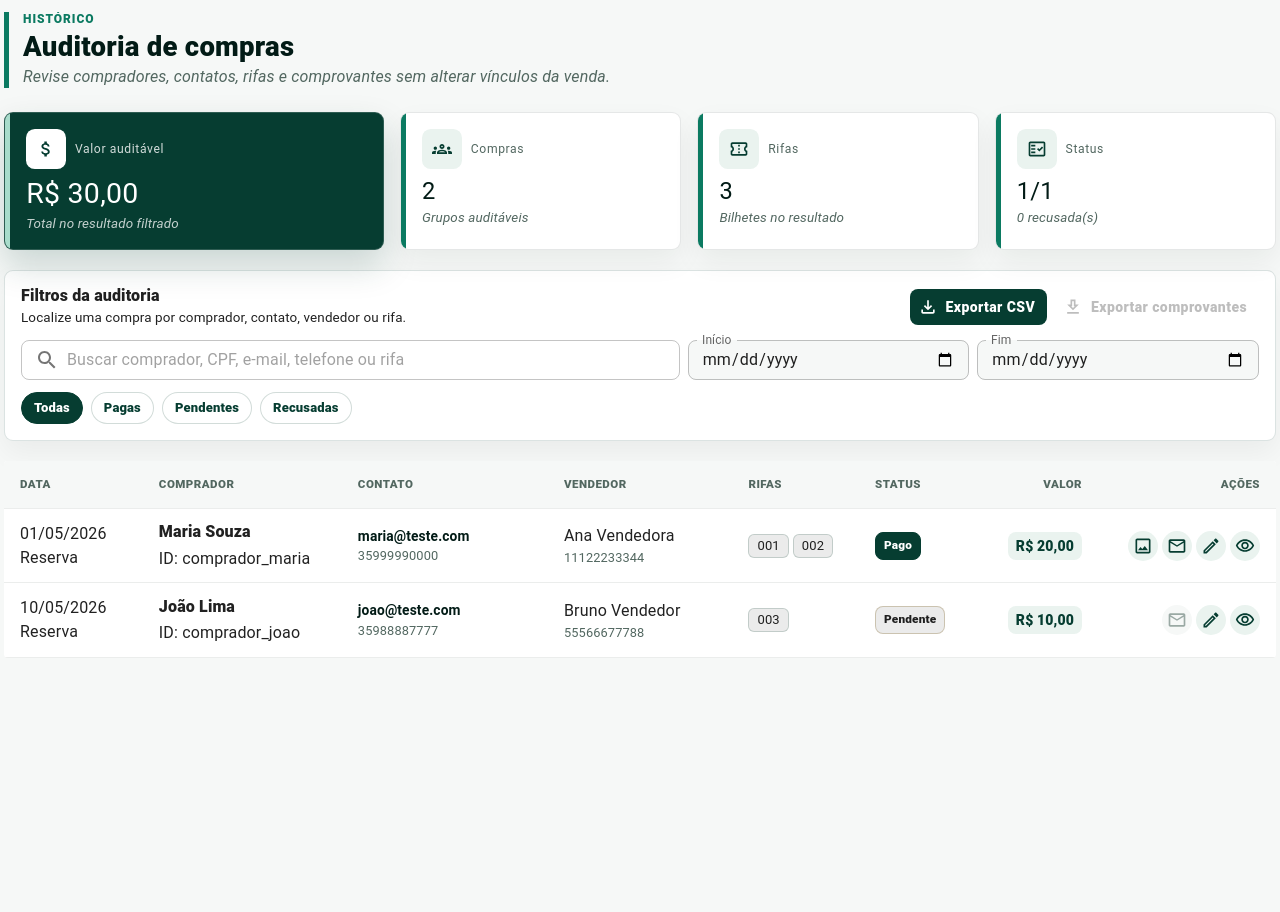
it: Página <AuditoriaComprasPage /> › Deve mostrar estado vazio e manter ações futuras desabilitadas
Step 1. Type "compra inexistente" into the field with placeholder "Buscar comprador, CPF, e-mail, telefone ou rifa" → coordinates (373, 360), box [67,340,680,380]
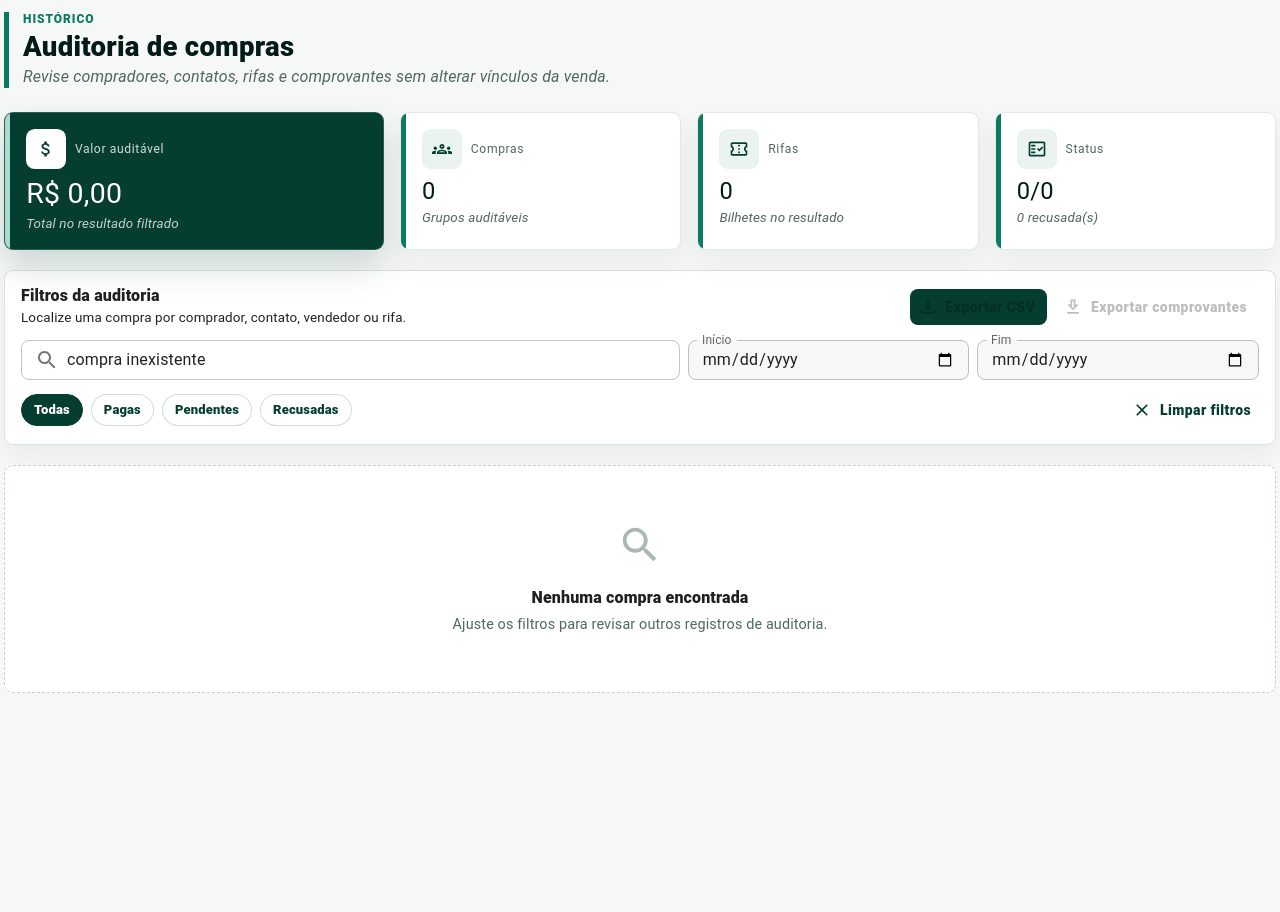
Expected: the button "Exportar comprovantes" is disabled, [1055,289,1259,326]
Expected: the text "Nenhuma compra encontrada" is shown, [532,588,748,607]
Expected: the button "Exportar CSV" is disabled, [910,289,1047,326]
